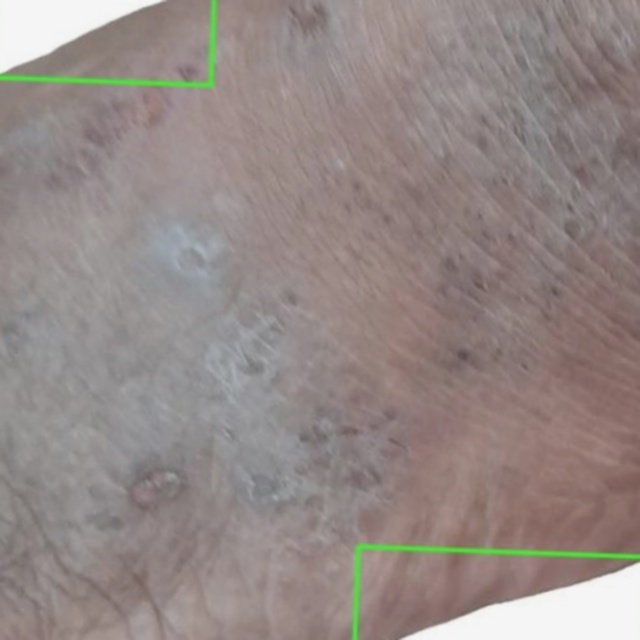Contact Dermatitis: (354, 546, 639, 639), (0, 0, 213, 85)
